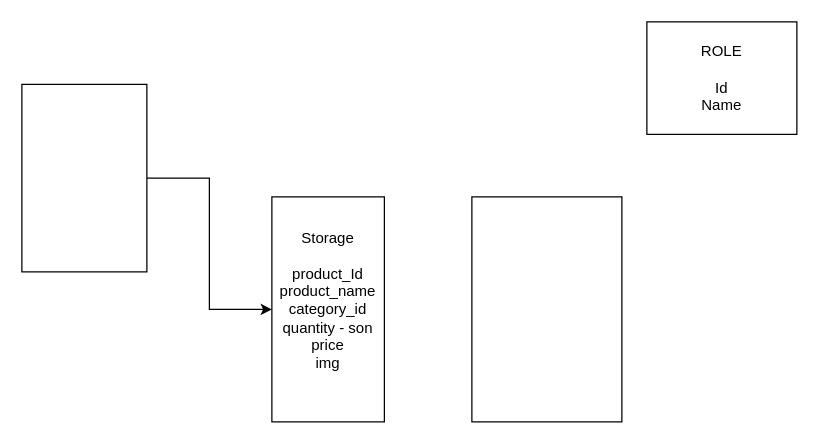
The diagram is 819 pixels wide and 444 high, and some of its shapes have lost their labels. Here are the shapes that lost their labels. From the top down, the centre of each, then its label:
the point at 84,177: Category id caregory_name
the point at 546,309: Employee id Full name age phone number salary
